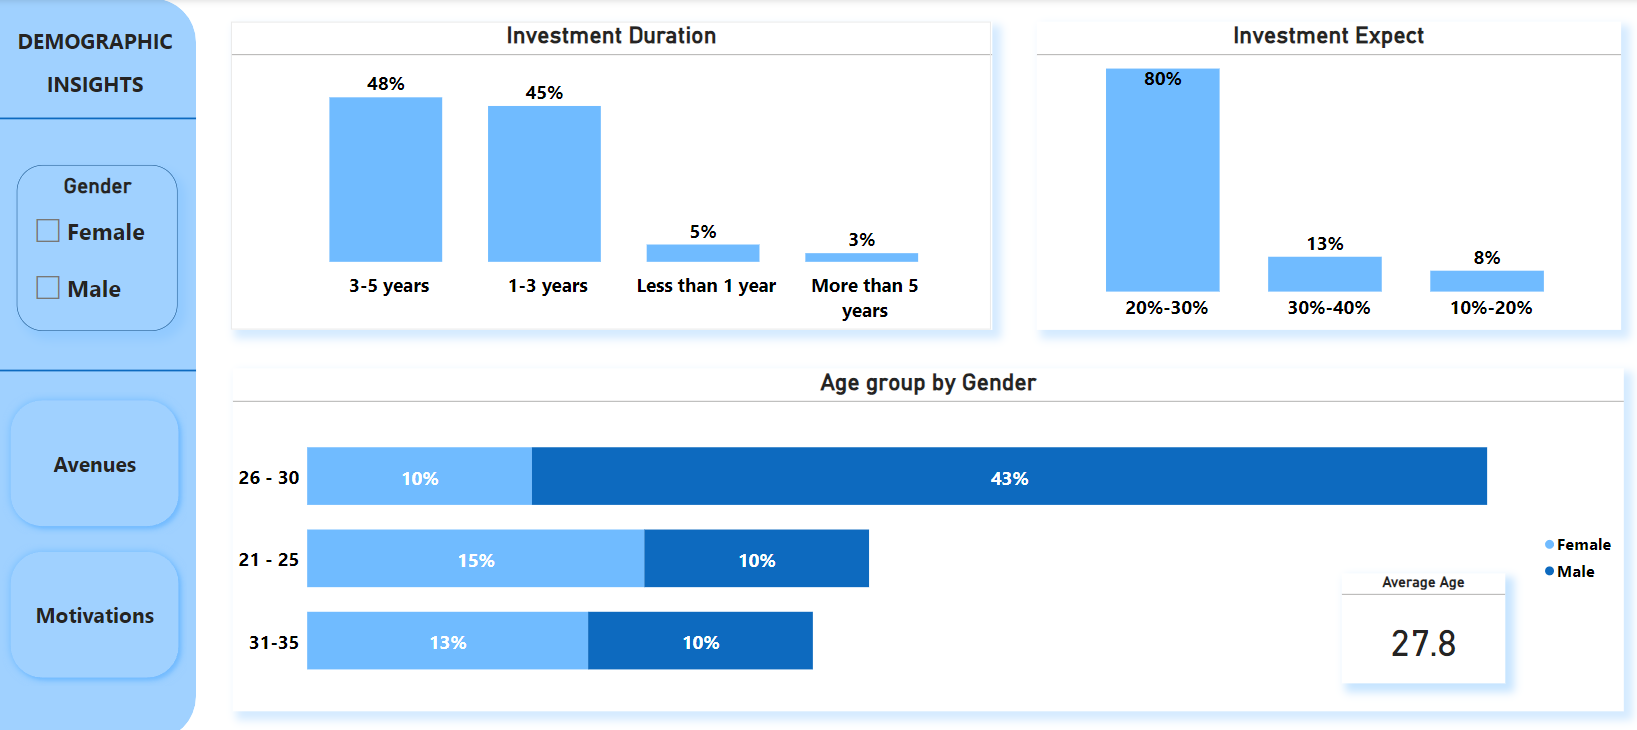

The dashboard page shown, as its layout file describes it:
{"tool":"powerbi","page":{"name":"Demographic Insights","canvas":[1900,850],"ordinal":0},"visuals":[{"type":"group","id":"g1","title":"Group 1","box":[0,0,229.6,847.8],"z":0},{"type":"shape","box":[26.9,0,202.7,847.8],"z":0,"group":"g1"},{"type":"barChart","title":"Age group by Gender","fields":{"Category":["Data_set 2 - Copy.age (groups)"],"Y":["Divide(CountNonNull(Data_set 2 - Copy.Avenue), ScopedEval(CountNonNull(Data_set 2 - Copy.Avenue), []))"],"Series":["Data_set 2 - Copy.gender"]},"box":[272.4,422.4,1588.6,391.8],"z":0,"group":"g2"},{"type":"shape","box":[0,0,107.5,847.8],"z":1000,"group":"g1"},{"type":"clusteredColumnChart","title":"Investment Duration","fields":{"Category":["Data_set 2 - Copy.Duration"],"Y":["Divide(CountNonNull(Data_set 2 - Copy.age), ScopedEval(CountNonNull(Data_set 2 - Copy.age), []))"]},"box":[269.4,27.5,869.3,352],"z":1000},{"type":"group","id":"g2","title":"Group 3","box":[272.4,422.4,1588.6,391.8],"z":2000},{"type":"columnChart","title":"Investment Expect","fields":{"Category":["Data_set 2 - Copy.Expect"],"Y":["Sum(Data_set 2 - Copy.age)"]},"box":[1190.7,27.5,667.3,352],"z":3000},{"type":"shape","box":[0,391.8,229.6,67.3],"z":3000,"group":"g1"},{"type":"textbox","box":[0,26.7,228.6,138.2],"z":4000,"group":"g1"},{"type":"slicer","title":"Gender","fields":{"Values":["Data_set 2 - Copy.gender"]},"box":[24.5,189.8,183.6,189.8],"z":4000},{"type":"pageNavigator","box":[9.2,449.9,211.2,336.7],"z":4500,"group":"g1"},{"type":"shape","box":[0,52,229.6,171.4],"z":5000},{"type":"card","title":"Average Age","fields":{"Values":["Avg(Data_set 2 - Copy.age)"]},"box":[1538.3,656.9,186.7,125.5],"z":5000,"group":"g2"}]}

Visuals, with their boxes in screenshot pixels (x1, y1, x2, y2), scaled from the page's 1900x850 canvas onto the 1637x730 screenshot:
"Group 1" group: 0,0,198,728
shape: 23,0,198,728
"Age group by Gender" barChart: 235,363,1603,699
shape: 0,0,93,728
"Investment Duration" clusteredColumnChart: 232,24,981,326
"Group 3" group: 235,363,1603,699
"Investment Expect" columnChart: 1026,24,1601,326
shape: 0,336,198,394
textbox: 0,23,197,142
"Gender" slicer: 21,163,179,326
pageNavigator: 8,386,190,676
shape: 0,45,198,192
"Average Age" card: 1325,564,1486,672
